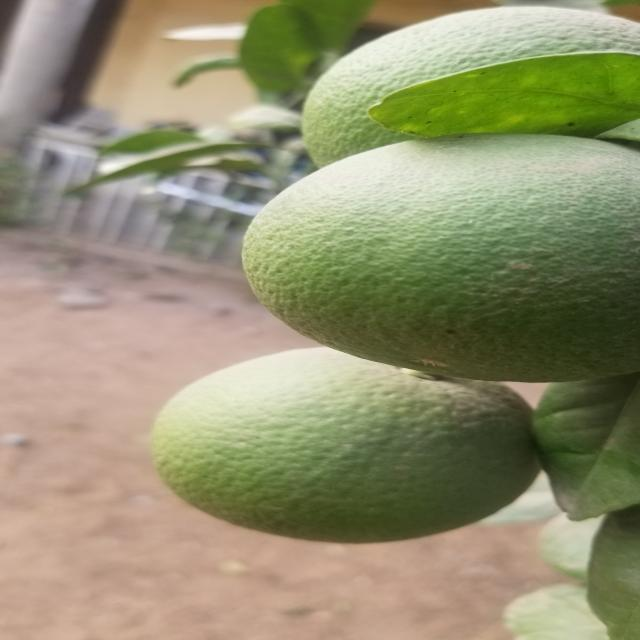Unripe: (245, 143, 624, 382), (150, 346, 529, 541), (301, 6, 634, 157)
